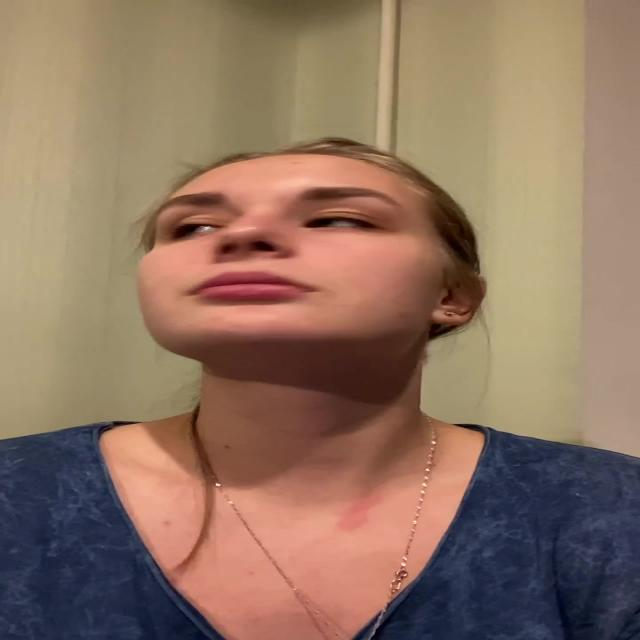earlobe: (428, 304, 468, 326)
eye: (304, 215, 375, 230), (168, 223, 221, 240)
nose: (209, 238, 283, 269)
wholeear: (429, 278, 486, 323)
